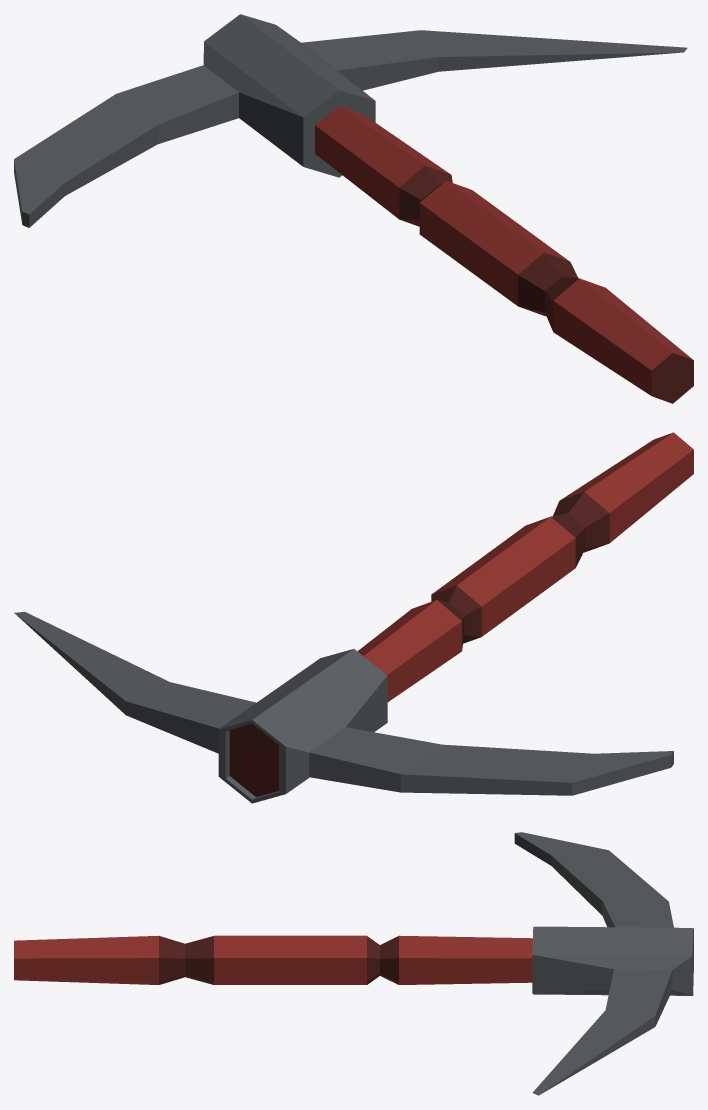
The model's file is Pickaxe_5_Red.fbx.
3 renders of one model, top to bottom at view 1: azimuth 30°, elevation 25°; view 2: azimuth 150°, elevation 25°; view 3: azimuth 270°, elevation 25°, orthographic. The views are drawn at different scales.
Visible parts, largest first — view 1: Pickaxe_5_Red_Part_3, Pickaxe_5_Red_Part_1, Pickaxe_5_Red_Part_2; view 2: Pickaxe_5_Red_Part_3, Pickaxe_5_Red_Part_1, Pickaxe_5_Red_Part_2; view 3: Pickaxe_5_Red_Part_3, Pickaxe_5_Red_Part_1, Pickaxe_5_Red_Part_2.
Boxes of the visible parts, bbox=[...] form: Pickaxe_5_Red_Part_3: bbox=[14, 14, 687, 227]; Pickaxe_5_Red_Part_1: bbox=[315, 105, 692, 395]; Pickaxe_5_Red_Part_2: bbox=[399, 165, 693, 403]; Pickaxe_5_Red_Part_3: bbox=[14, 612, 673, 803]; Pickaxe_5_Red_Part_1: bbox=[357, 432, 693, 701]; Pickaxe_5_Red_Part_2: bbox=[229, 492, 609, 796]; Pickaxe_5_Red_Part_3: bbox=[514, 832, 693, 1095]; Pickaxe_5_Red_Part_1: bbox=[14, 935, 532, 984]; Pickaxe_5_Red_Part_2: bbox=[159, 936, 398, 984].
Size of the model in its own units: 44.62 by 5.51 by 49.95.
